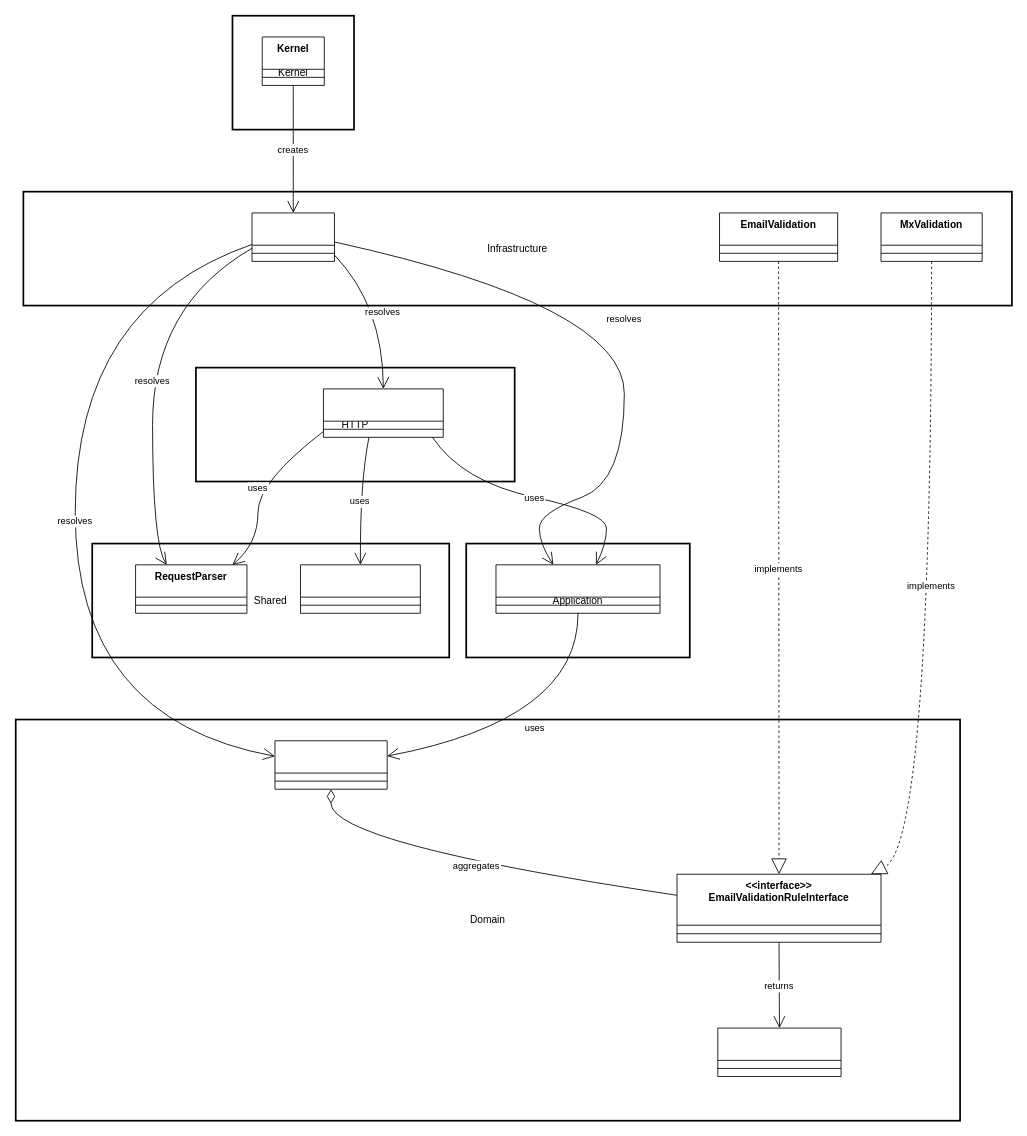
This 1027x1136 diagram has some shape labels left out. Each missing label, with the centre of its shape:
"Container" belongs at pixel 292 236.
"EmailController" belongs at pixel 383 412.
"EmailValidator" belongs at pixel 330 764.
"ResponseParser" belongs at pixel 360 588.
"ValidateEmailsUseCase" belongs at pixel 577 588.
"ValidationResult" belongs at pixel 779 1052.
